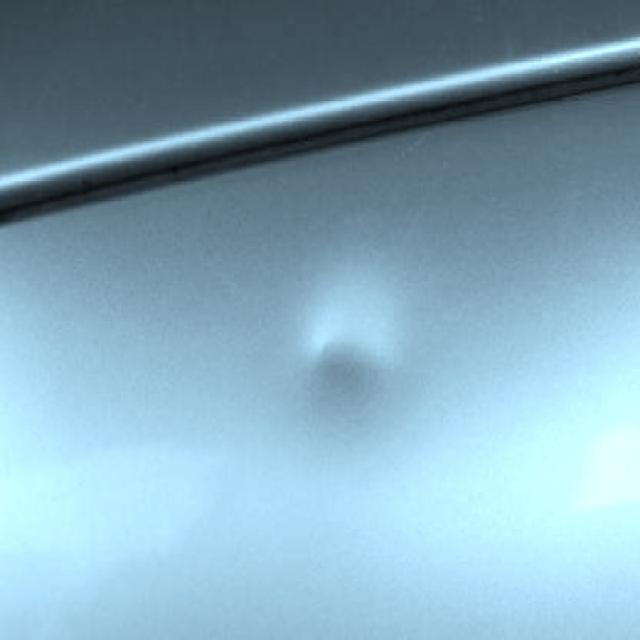dent: (309, 311, 389, 385)
